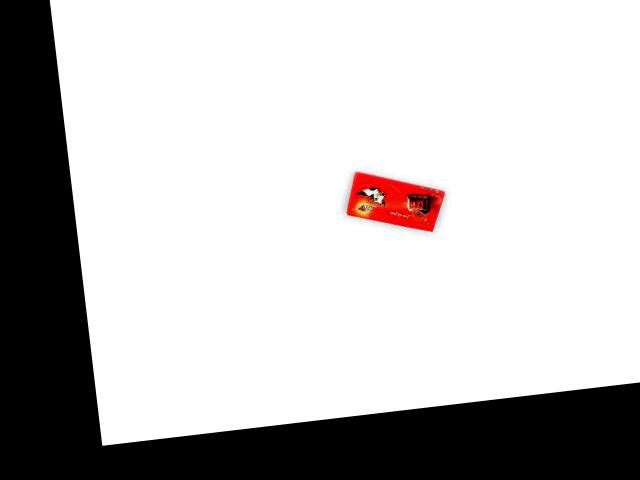chocolate: (344, 161, 450, 242)
